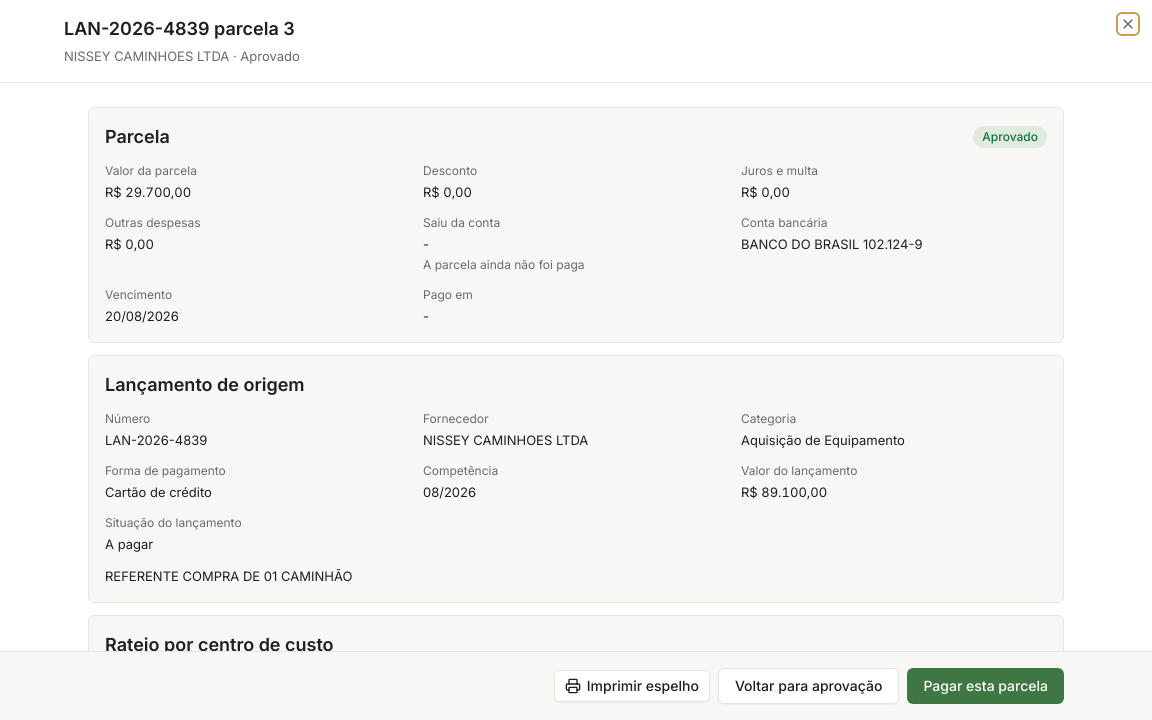
Test case: DetalheParcelaDrawer, voltar para aprovação › sem motivo, o confirmar do diálogo fica travado
Check: the heading "LAN-2026-4839 parcela 3" is shown, box [64, 18, 295, 39]
Click the button "Voltar para aprovação": (809, 686) [718, 668, 899, 704]
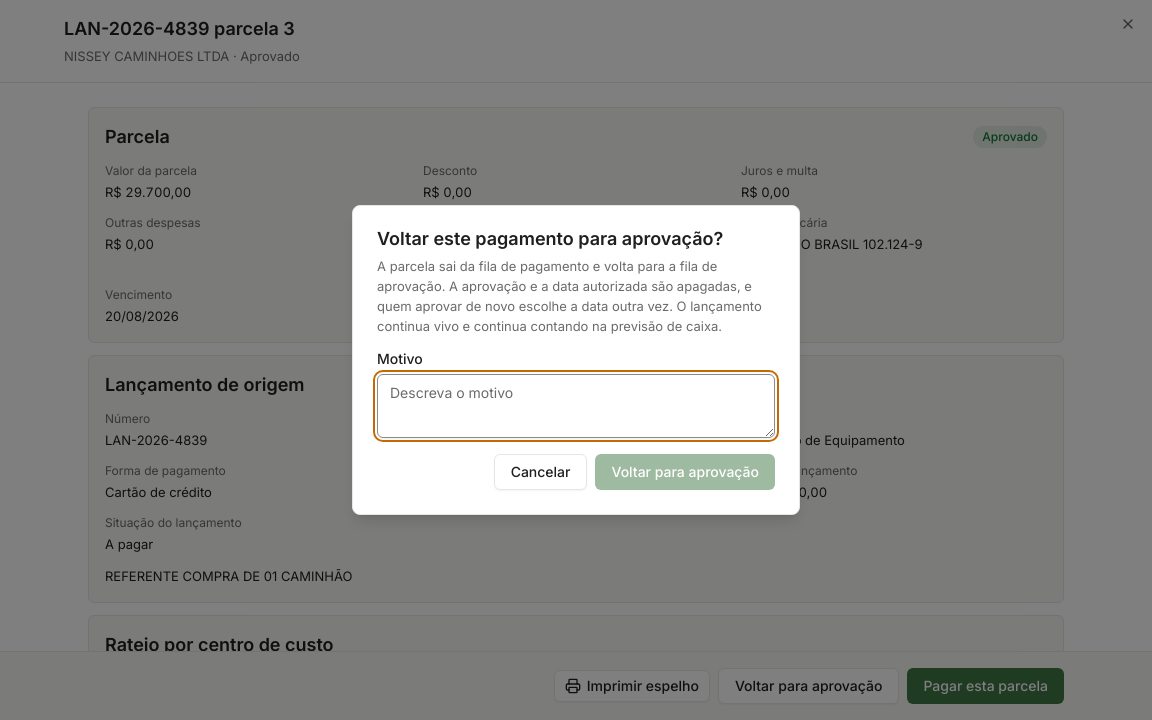
Check: the button "Voltar para aprovação" is disabled, box [596, 454, 775, 490]
